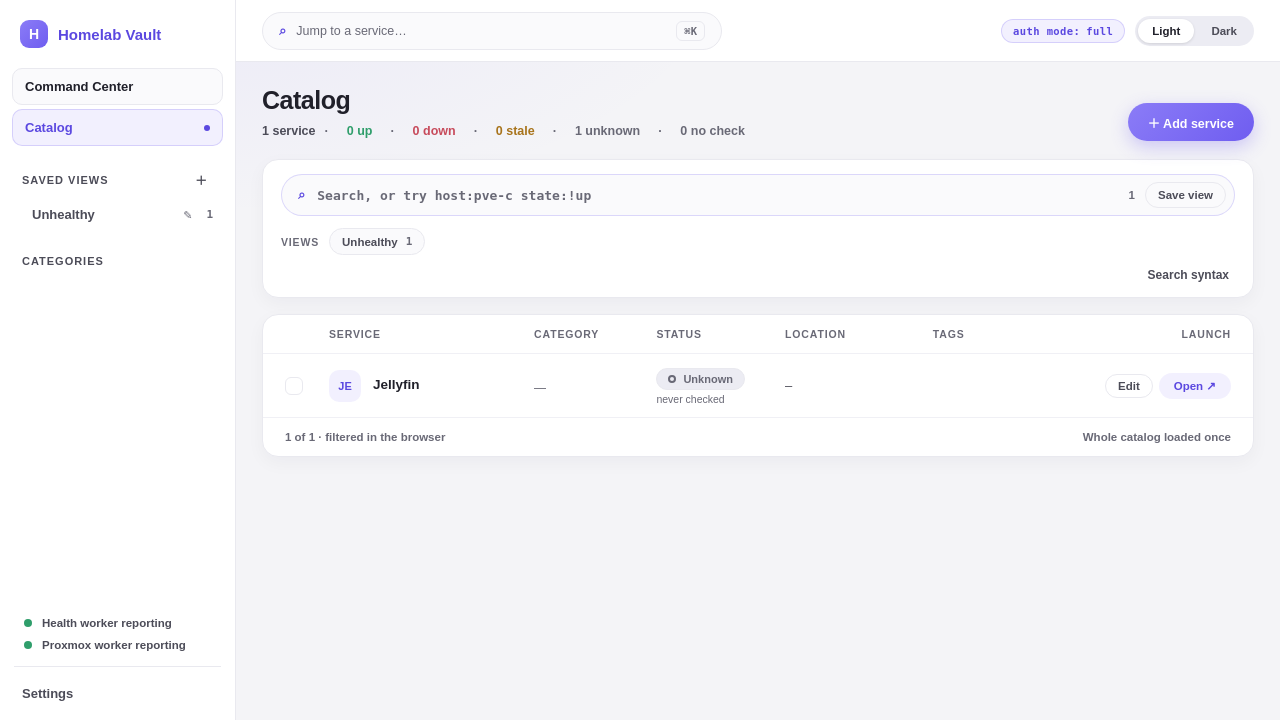
Test: saved views can be renamed › opens the editor for the view, not for a category
The width and height of the screenshot is (1280, 720).
Click the button with class "side-edit": click(188, 214) [179, 207, 196, 222]
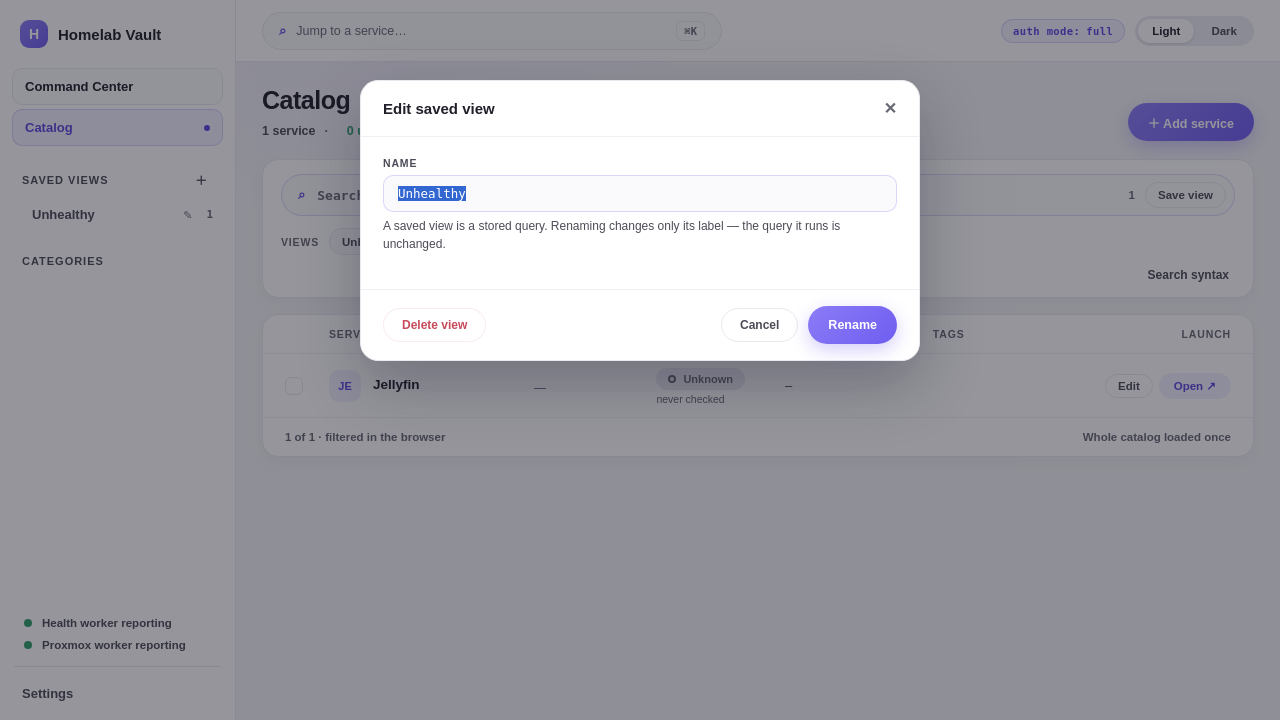
Expected: the text "Edit saved view" is shown, [383, 100, 495, 117]
Expected: the text "Renaming changes only its label" is shown, [383, 219, 840, 251]
